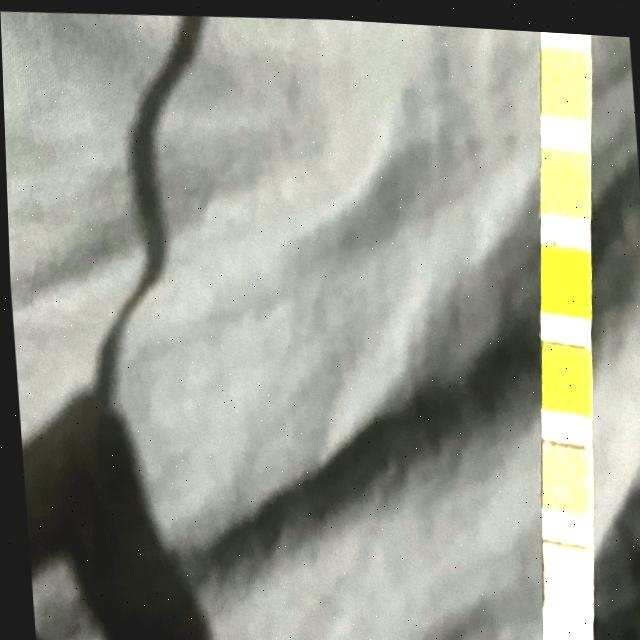Bilirubin: (538, 542, 585, 600)
Blood: (538, 245, 585, 300)
Ketone: (540, 444, 583, 501)
Protein: (541, 53, 586, 100)
SpGravity: (539, 340, 585, 398)
pH: (540, 148, 585, 198)
